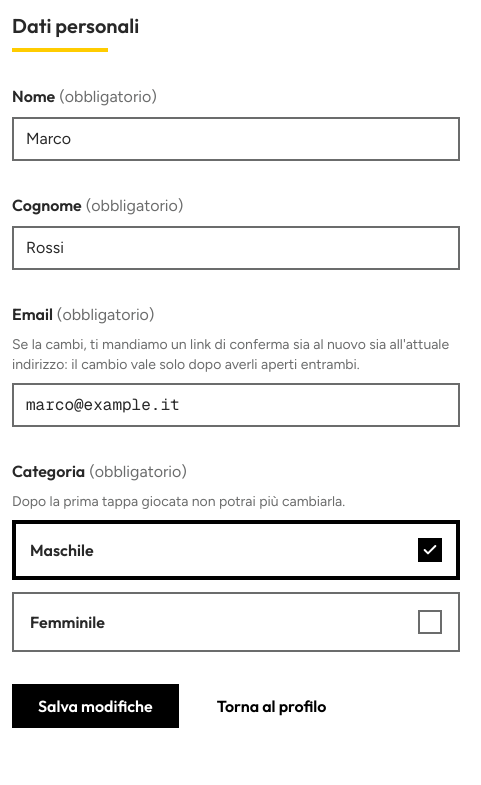
Scenario: ProfiloForm › dopo il salvataggio i valori inviati sono la nuova base
This screenshot has width=481, height=785.
Replace the text in the field labelled "Nome (obbligatorio)" with "Marcello" at (236,139), box [12,117,460,161]
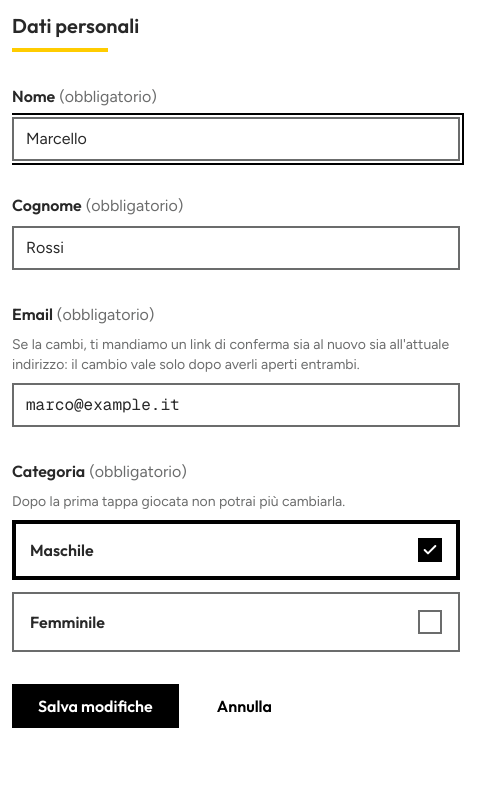
Click the button "Salva modifiche" at (95,706), box [12,684,179,728]
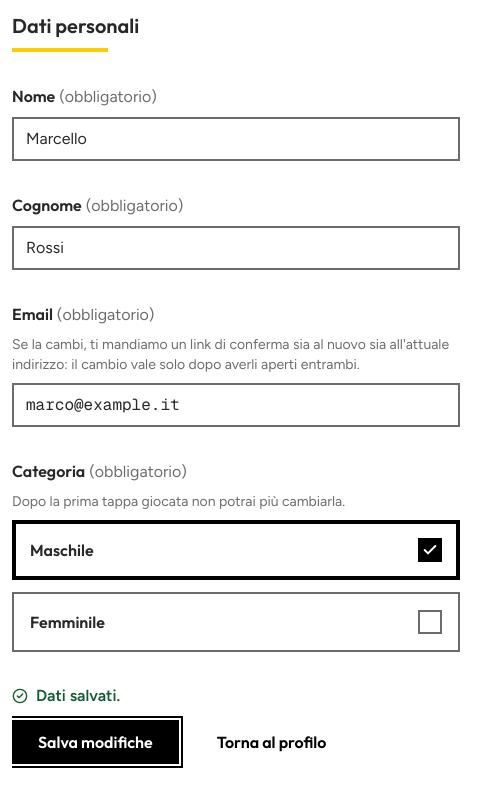
Result: the message reads "Dati salvati." at [36,686,120,705]
Result: the link "Torna al profilo" is shown at [191,720,352,764]
